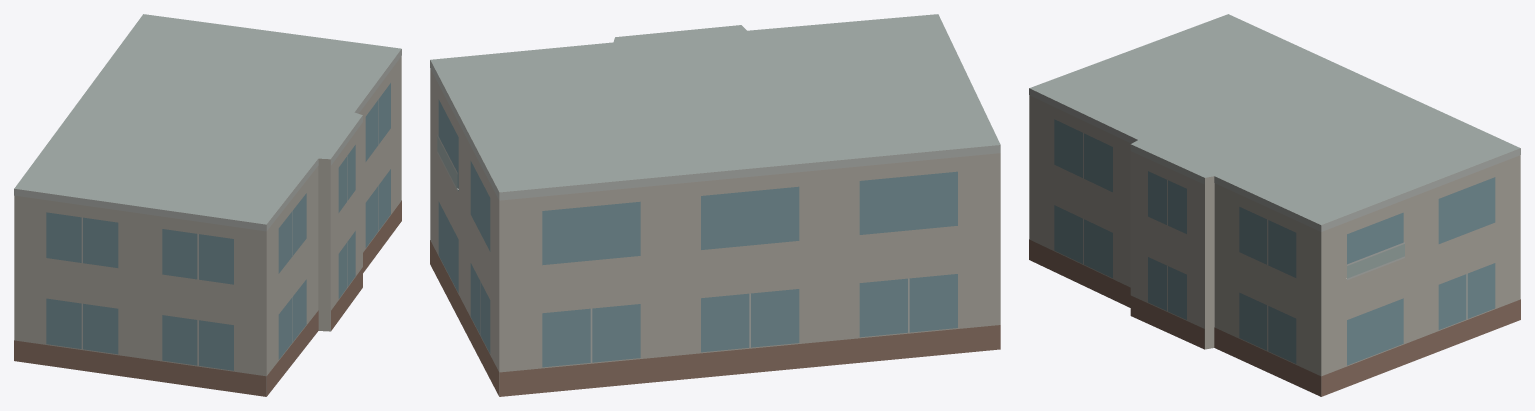
File: survey-upis-32627731.glb
The picture shows the model from 3 angles, left to right: view 1: azimuth 30°, elevation 25°; view 2: azimuth 150°, elevation 25°; view 3: azimuth 270°, elevation 25°; orthographic projection. The views are drawn at different scales.
Parts seen in each view (by area): view 1: survey-upis-32627731.tmp; view 2: survey-upis-32627731.tmp; view 3: survey-upis-32627731.tmp.
Part boxes in pixels (x1=…): survey-upis-32627731.tmp: x1=14, y1=14, x2=401, y2=396; survey-upis-32627731.tmp: x1=430, y1=14, x2=1000, y2=396; survey-upis-32627731.tmp: x1=1029, y1=14, x2=1520, y2=396.
Size of the model in its own units: 16.1 by 6.1 by 15.83.
